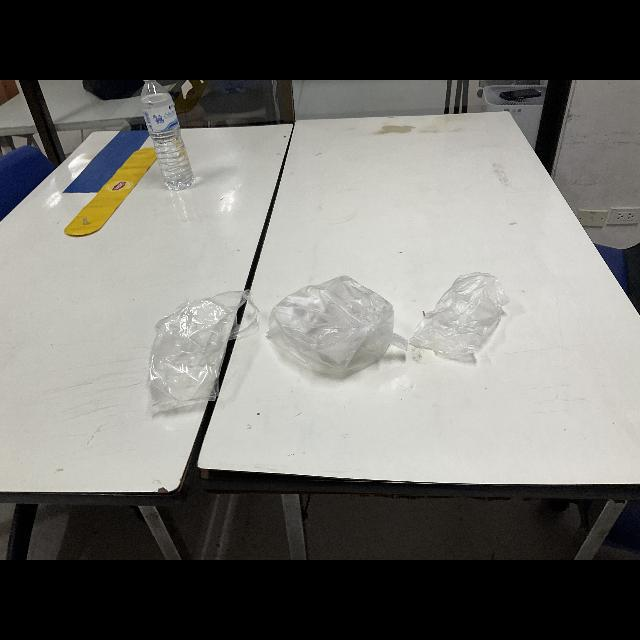plastic_bag: (267, 272, 407, 376), (148, 291, 260, 409), (410, 270, 510, 368)
